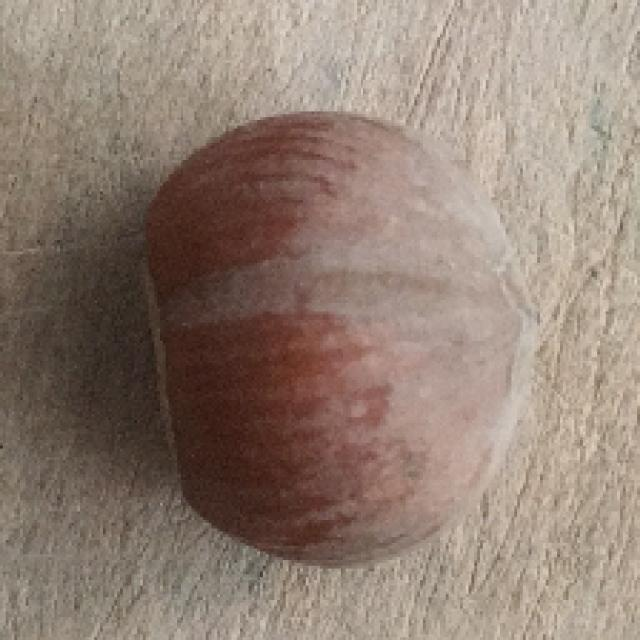qualityHazelnut: (135, 108, 546, 566)
